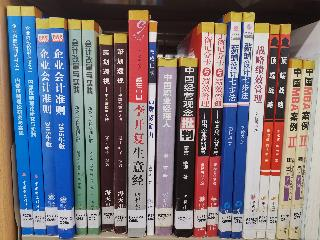book-spine: (4, 6, 35, 237), (241, 22, 270, 239), (20, 6, 47, 236), (216, 11, 243, 239), (48, 17, 75, 240), (230, 12, 255, 240), (190, 22, 216, 239), (149, 56, 179, 236), (266, 24, 291, 239), (35, 17, 59, 238), (276, 59, 304, 240), (257, 23, 280, 238), (290, 60, 316, 240), (128, 10, 147, 238), (174, 58, 197, 239), (68, 19, 87, 236), (81, 20, 100, 237), (207, 24, 226, 238), (97, 35, 115, 232), (112, 33, 128, 234), (144, 21, 156, 236)
